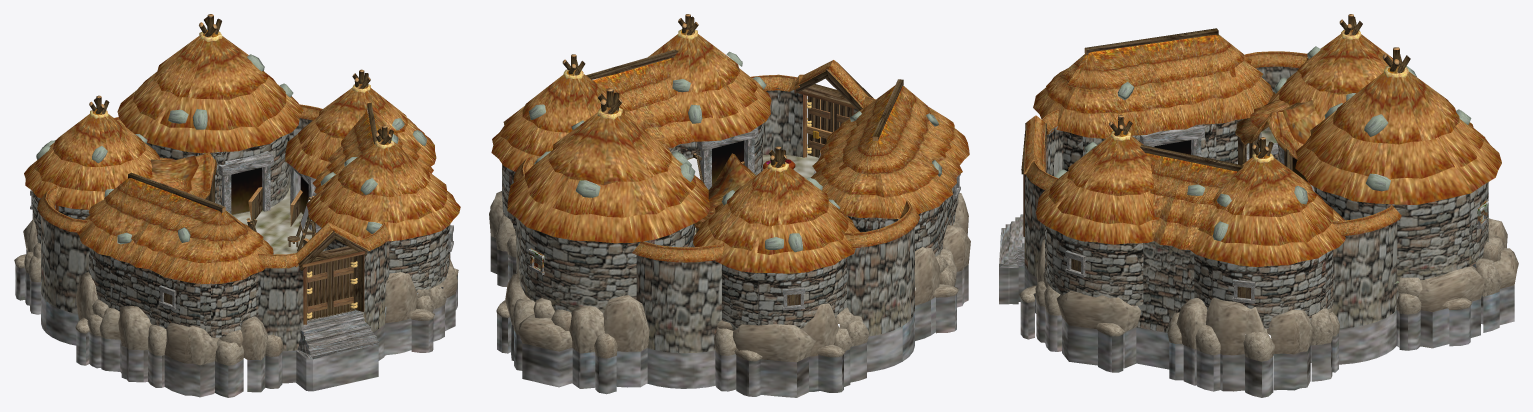
File: lusi_new_cc.dae
3 renders of one model, left to right at view 1: azimuth 30°, elevation 25°; view 2: azimuth 150°, elevation 25°; view 3: azimuth 270°, elevation 25°, orthographic. The views are drawn at different scales.
Parts seen in each view (by area): view 1: Cc_lusi; view 2: Cc_lusi; view 3: Cc_lusi.
Boxes of the visible parts, bbox=[...] form: Cc_lusi: bbox=[14, 14, 460, 397]; Cc_lusi: bbox=[489, 14, 970, 397]; Cc_lusi: bbox=[999, 14, 1518, 397].
Bounding box in the file's own units: 34.45 × 35.15 × 19.41.
